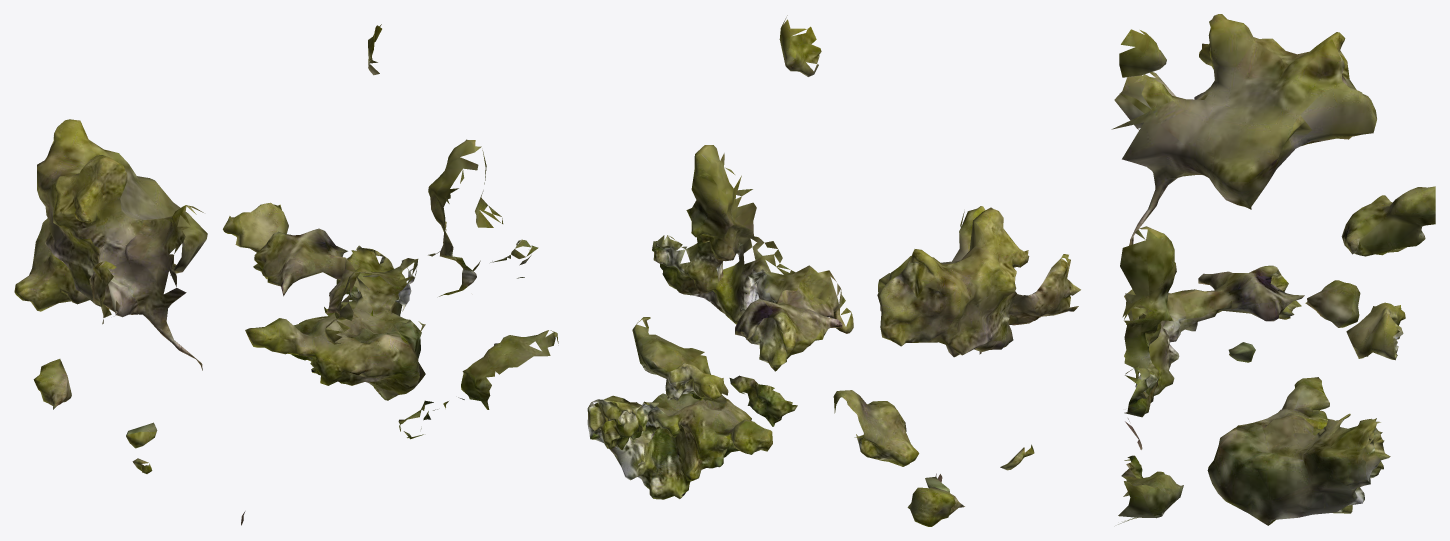
The picture shows the model from 3 angles, left to right: view 1: azimuth 30°, elevation 25°; view 2: azimuth 150°, elevation 25°; view 3: azimuth 270°, elevation 25°; orthographic projection. The views are drawn at different scales.
Bounding box in the file's own units: 5.01 × 4.89 × 2.89.
Materials: 1 (1 with a texture image).
